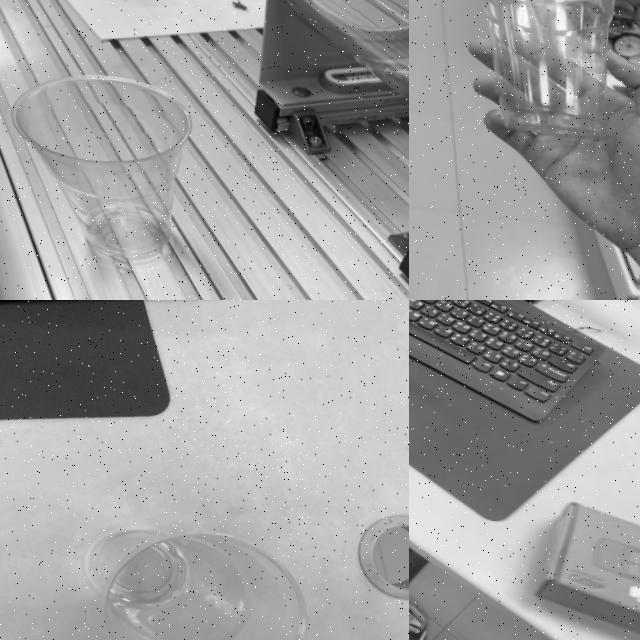glass: (0, 45, 218, 274), (61, 500, 330, 640), (430, 0, 640, 149)
